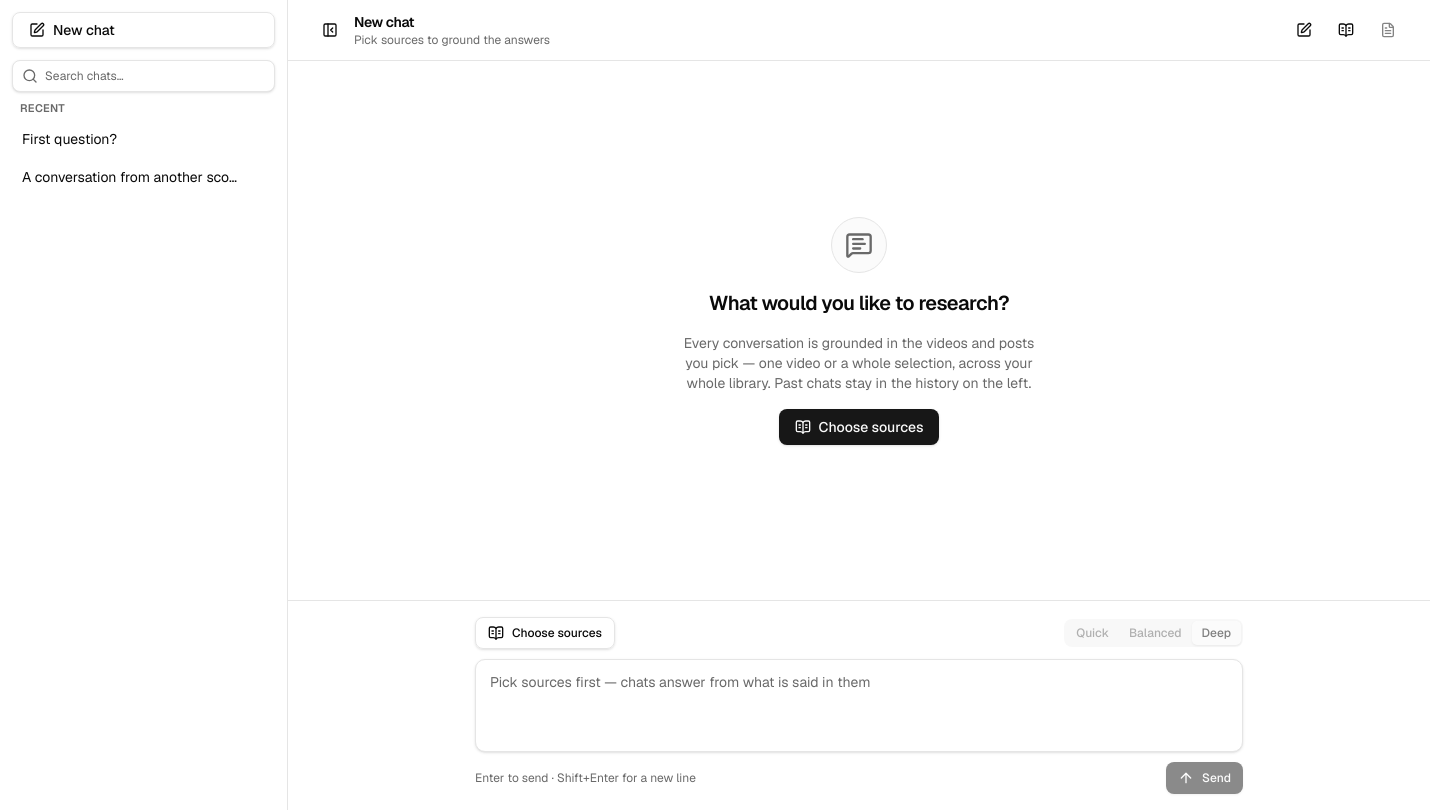
Test: ChatWorkspace — picking sources for a fresh chat › keeps ticks in a draft until confirmed, and selects a creator's sources at once
Click the button "Choose sources" below "What would you like to research?".
click(859, 426)  # box [778,408,939,444]
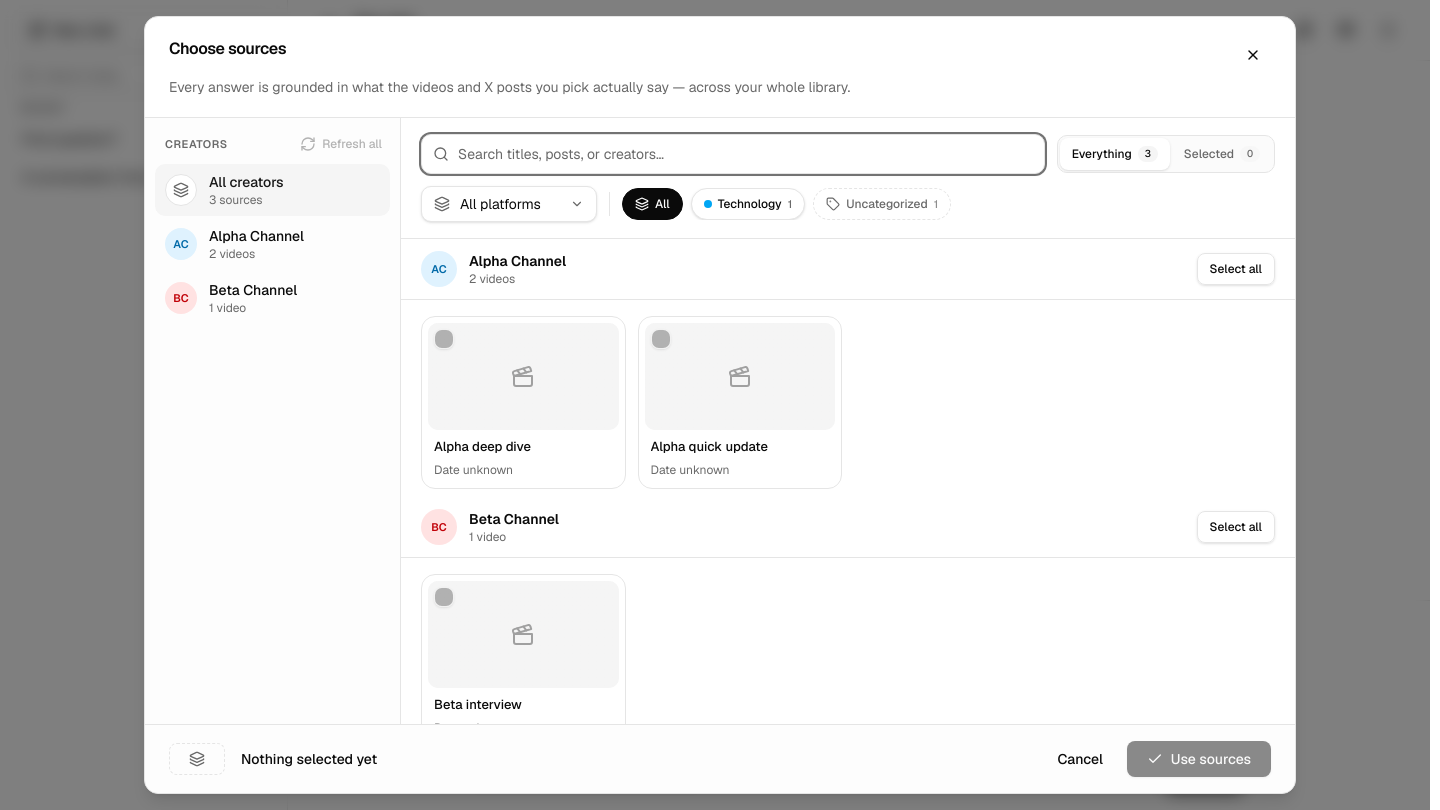
Click the checkbox named "Select Beta interview".
click(444, 597)  # box [434,587,454,607]
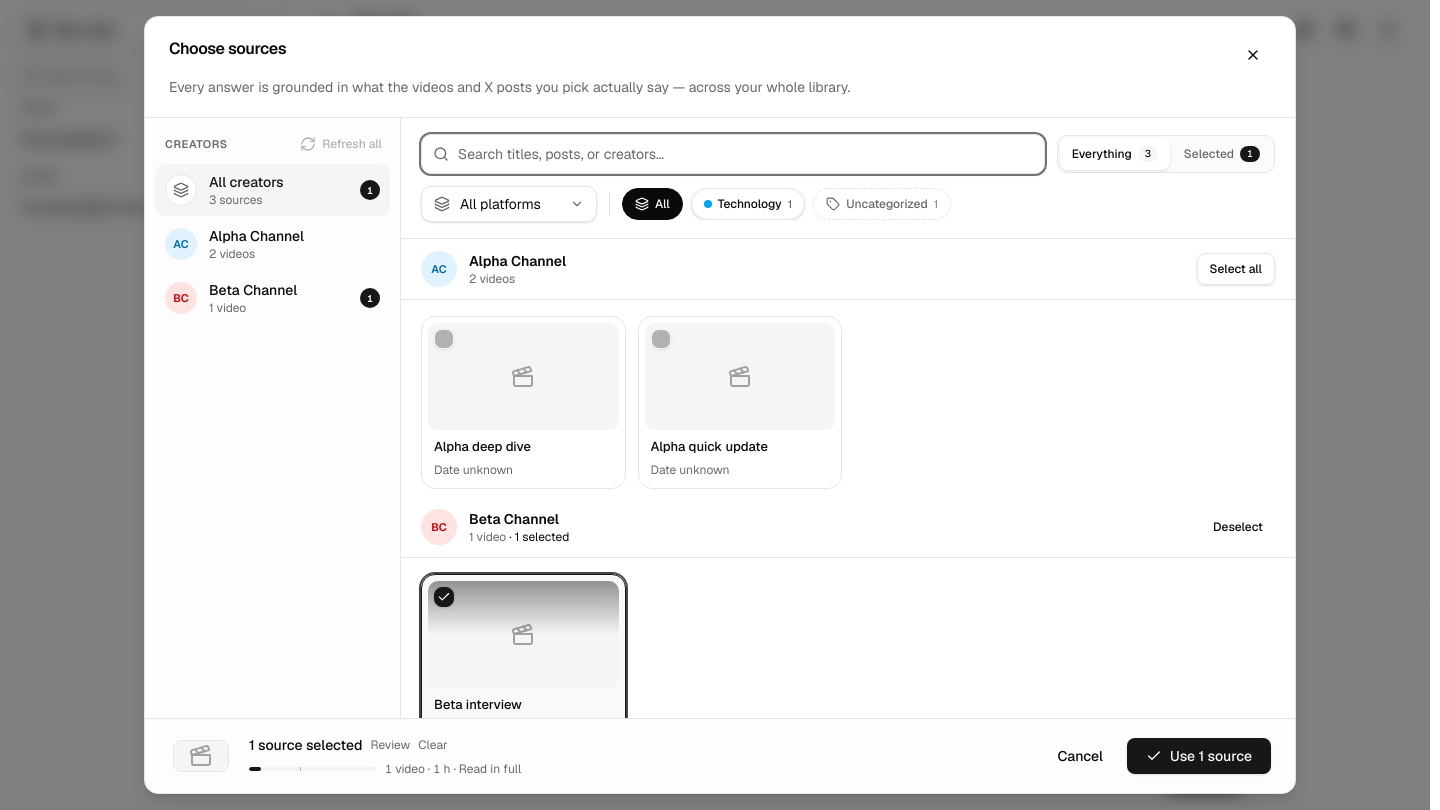
Result: the button "Use 1 source" is shown at [1127,738,1271,774]
Cancel discards the draft: the next open starts from the committed (empty) scope.
Click the button "Cancel".
click(1080, 756)  # box [1041,738,1119,774]
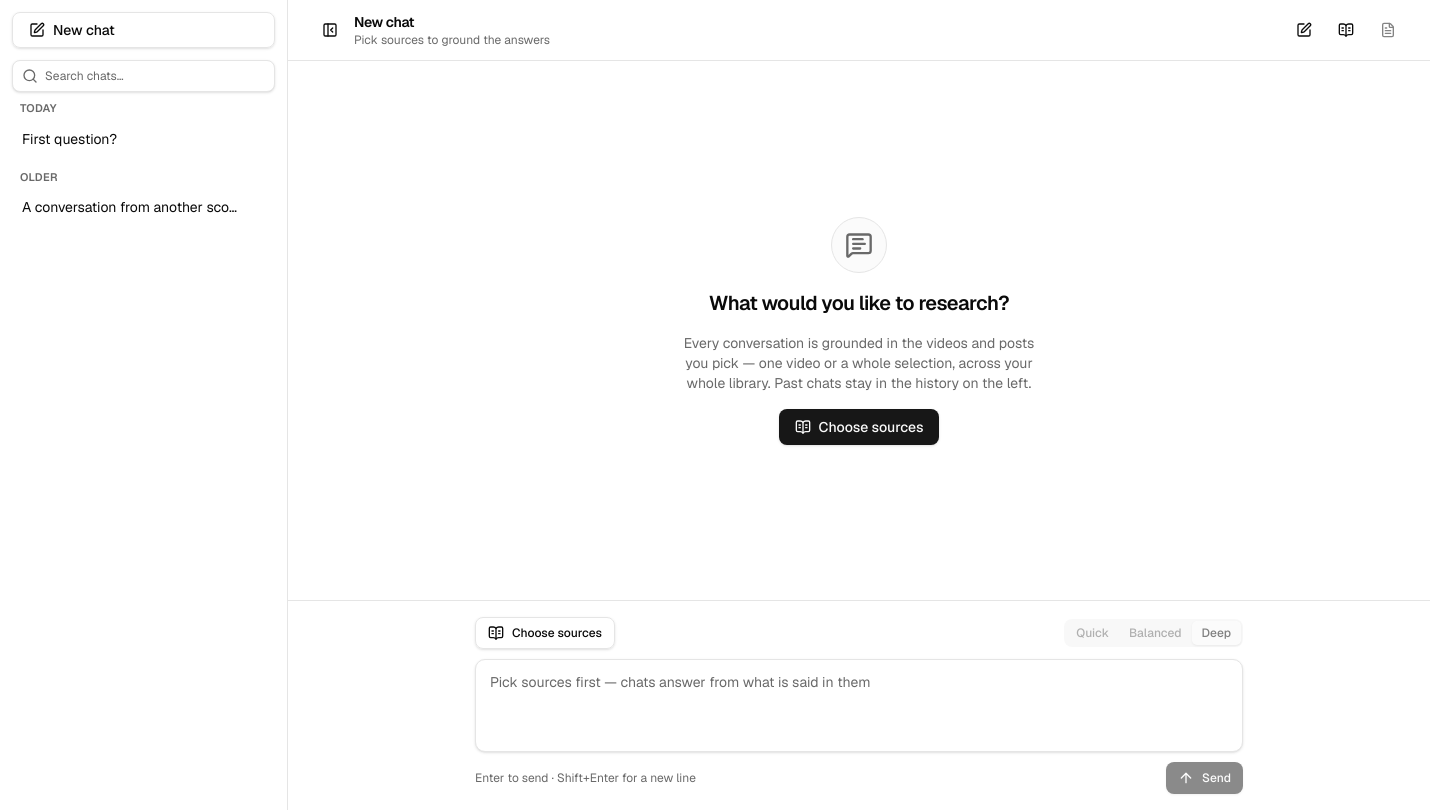
Result: the dialog is gone
Click the button "Choose sources" below "What would you like to research?".
click(859, 426)  # box [778,408,939,444]
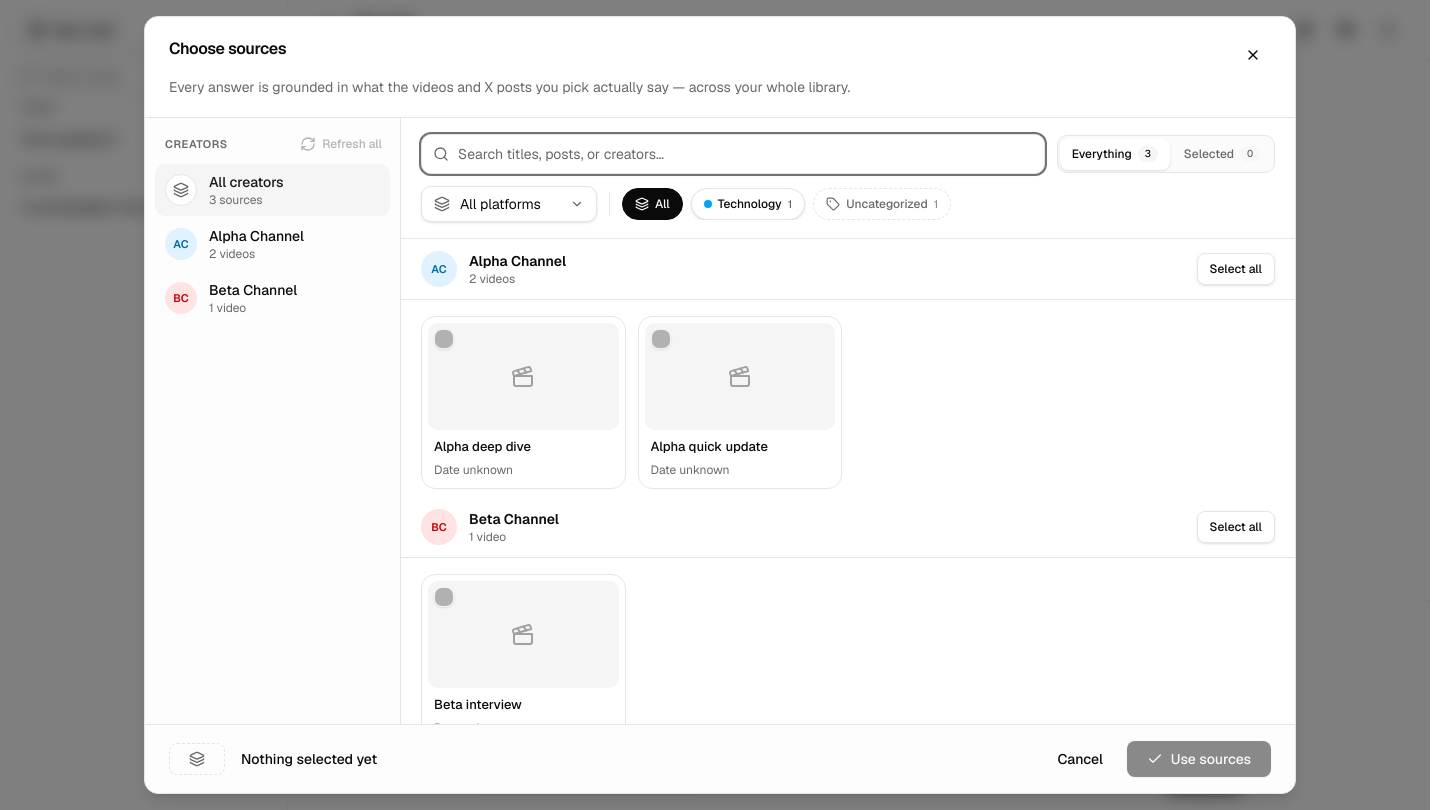
Result: the checkbox named "Select Beta interview" is not checked at [434,587,454,607]
Click the button with aria-label "Select all from Alpha Channel".
click(1236, 269)  # box [1196,253,1275,285]
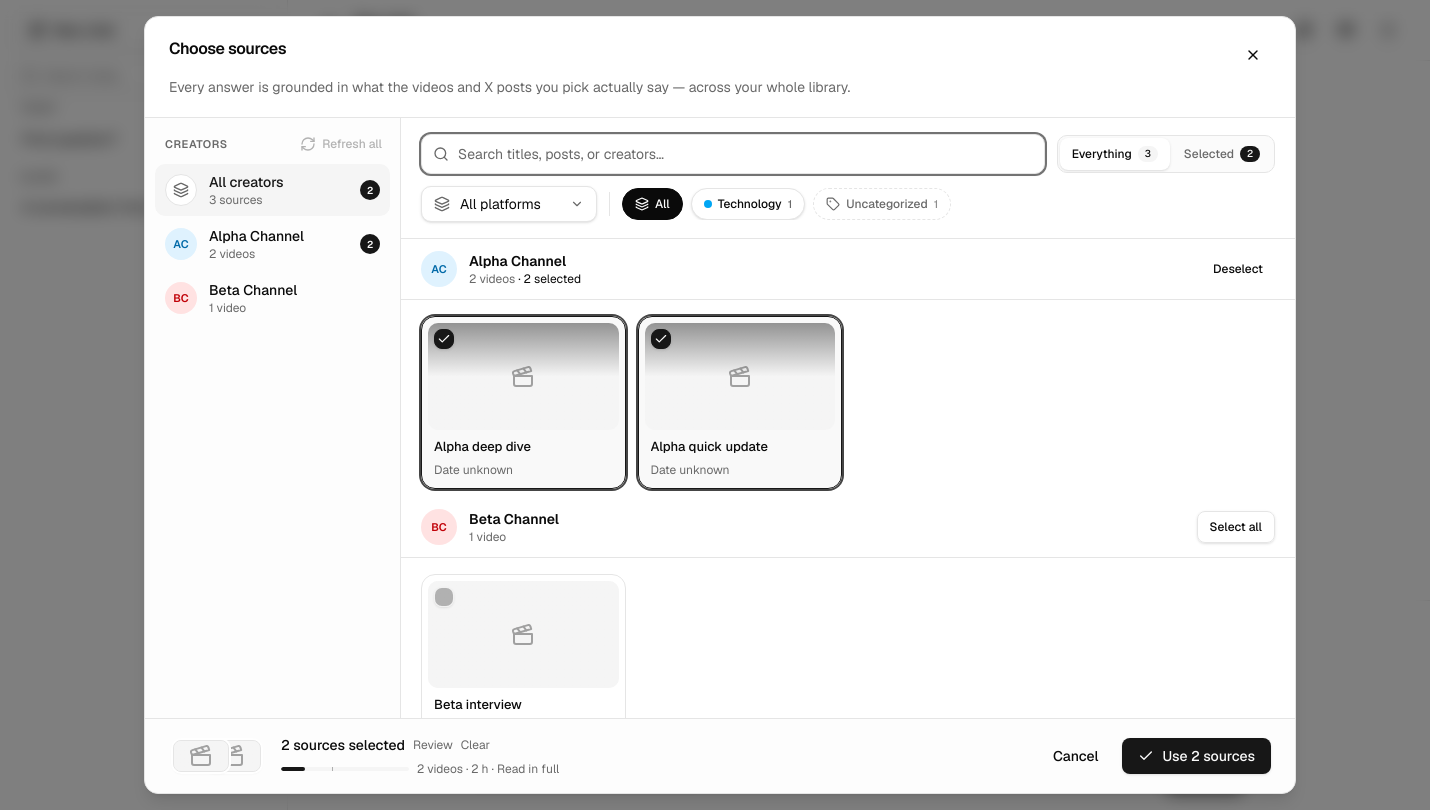
Click the button "Use 2 sources".
click(1197, 756)  # box [1122,738,1271,774]
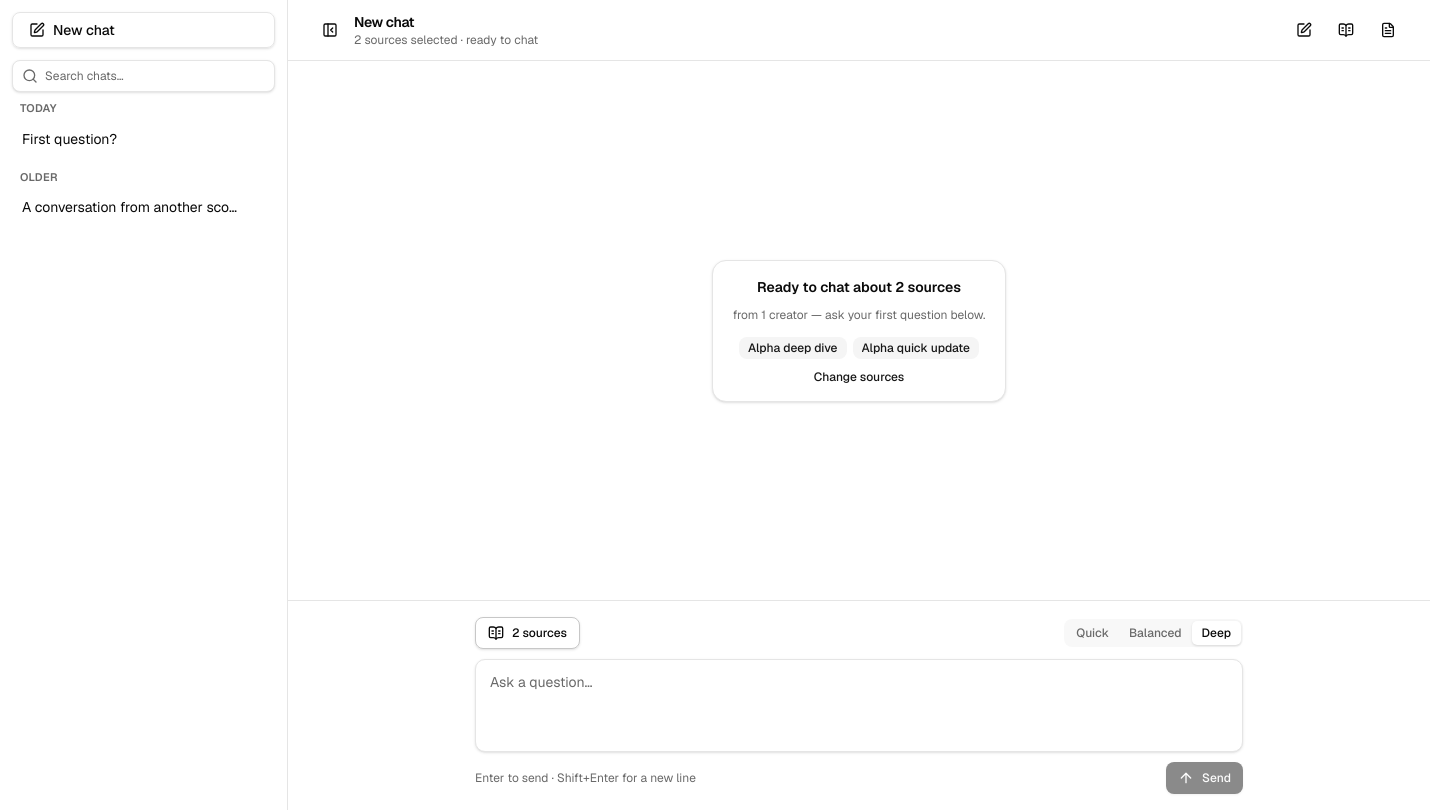
Result: the dialog is gone
Result: the text "Ready to chat about 2 sources" is shown at [757,276,961,296]
